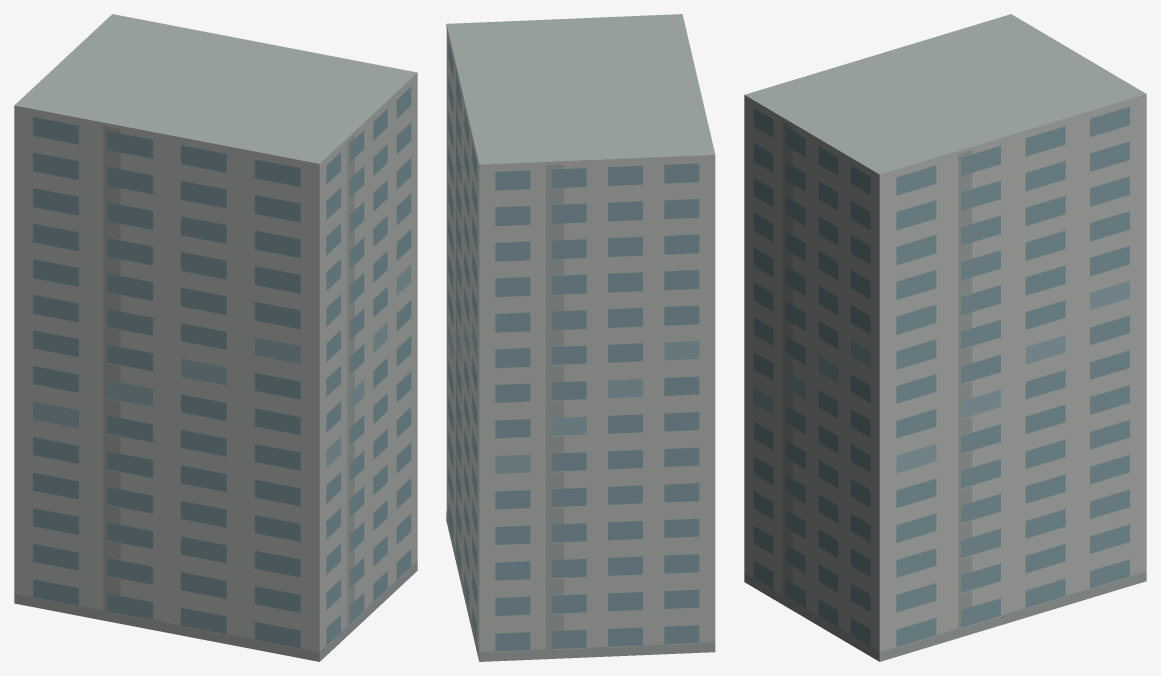
File: residential-daa2ed1e-3e4a-49d1-9546-4dd491b89960.glb
3 renders of one model, left to right at view 1: azimuth 30°, elevation 25°; view 2: azimuth 150°, elevation 25°; view 3: azimuth 270°, elevation 25°, orthographic. The views are drawn at different scales.
Parts seen in each view (by area): view 1: residential-daa2ed1e-3e4a-49d1-9546-4dd491b89960.tmp; view 2: residential-daa2ed1e-3e4a-49d1-9546-4dd491b89960.tmp; view 3: residential-daa2ed1e-3e4a-49d1-9546-4dd491b89960.tmp.
Boxes of the visible parts, bbox=[...] form: residential-daa2ed1e-3e4a-49d1-9546-4dd491b89960.tmp: bbox=[14, 14, 417, 661]; residential-daa2ed1e-3e4a-49d1-9546-4dd491b89960.tmp: bbox=[446, 14, 715, 661]; residential-daa2ed1e-3e4a-49d1-9546-4dd491b89960.tmp: bbox=[744, 14, 1146, 661].
Bounding box in the file's own units: 25.46 × 36 × 26.93.
